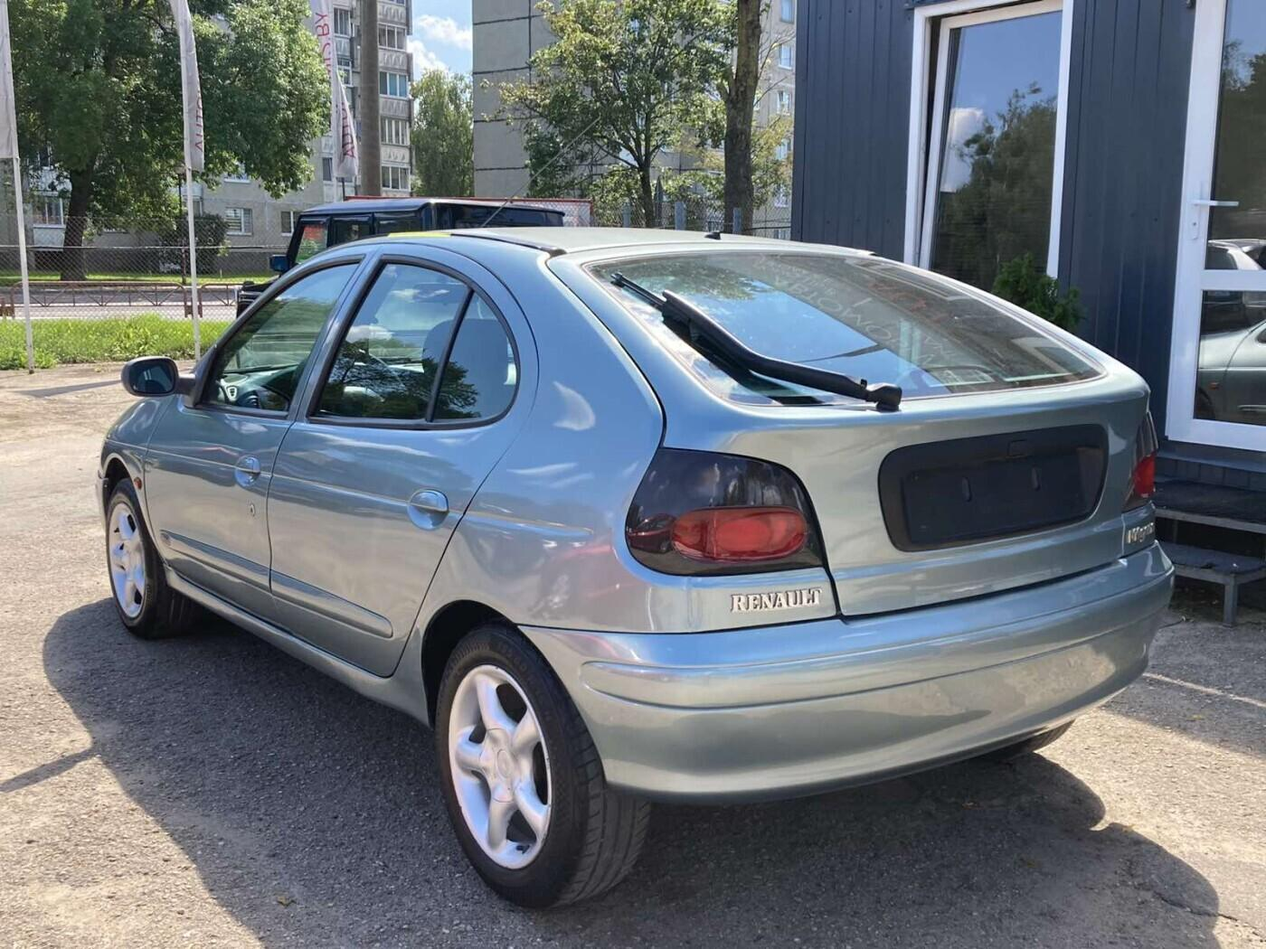Megane_1995-1999: (92, 223, 1172, 896)
